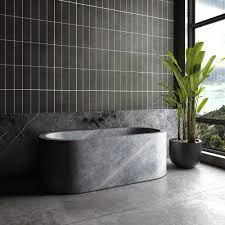bathub: (37, 122, 170, 196)
